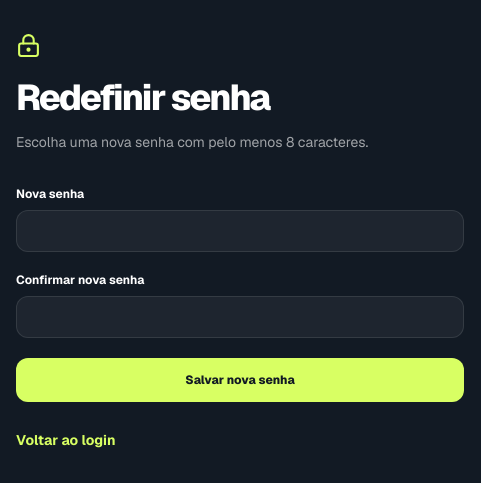
it: setting a new password › rejects invalid password confirmation before contacting Auth
Type "short" into the password field labelled "Nova senha" at coordinates (240, 230), box [16,210,464,252]
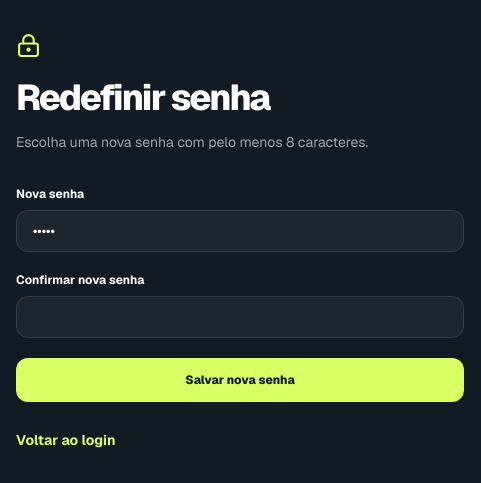
Type "short" into the password field labelled "Confirmar nova senha" at coordinates (240, 316), box [16,296,464,338]
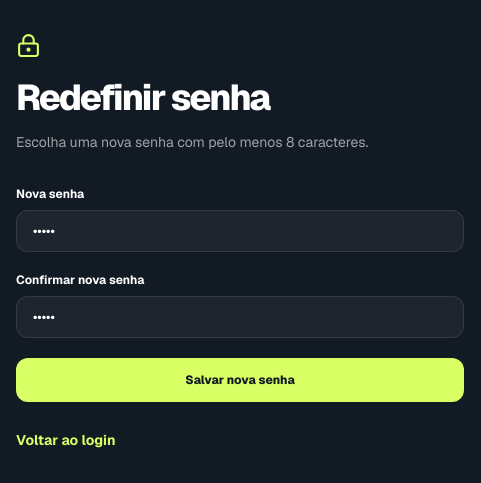
Submit the form "Salvar nova senha", box [16,186,464,402]
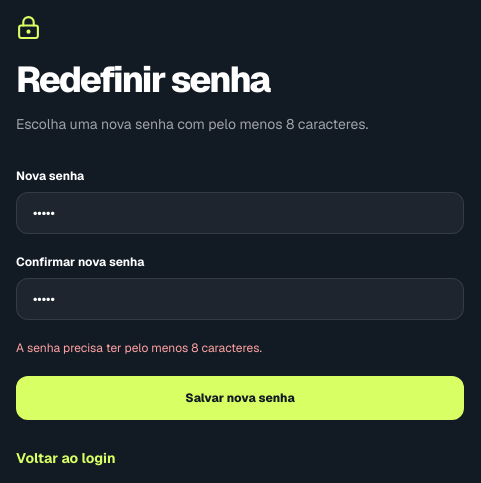
Expected: the message "A senha precisa ter pelo menos 8 caracteres." is shown, [16,340,262,356]
